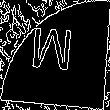M_S: (30, 27, 80, 83)
